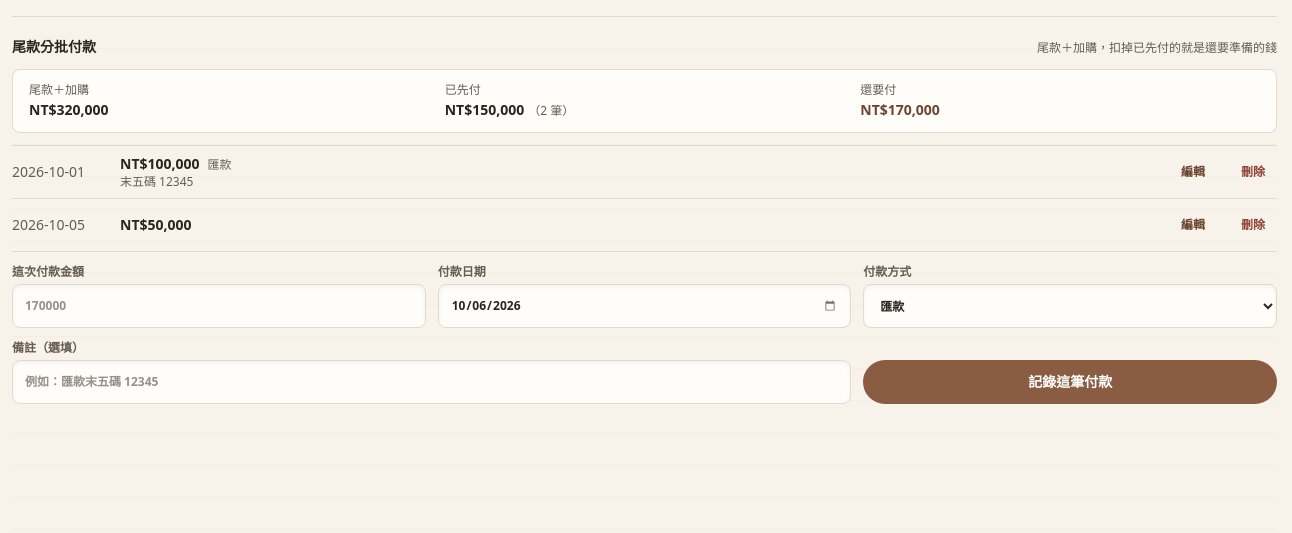
Test: BudgetPayments › 取消編輯會回到原本的付款列
Click the button with aria-label "編輯 2026-10-05 的付款紀錄": click(1193, 225) [1169,207,1217,243]
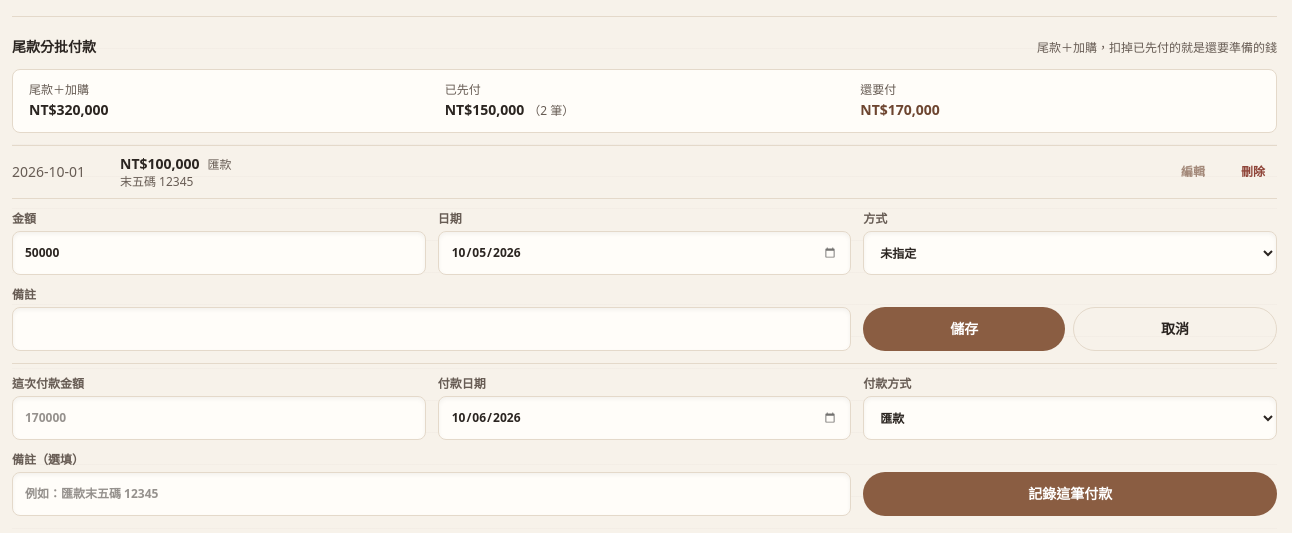
Click the button "取消": click(1175, 329) [1073,307,1277,351]
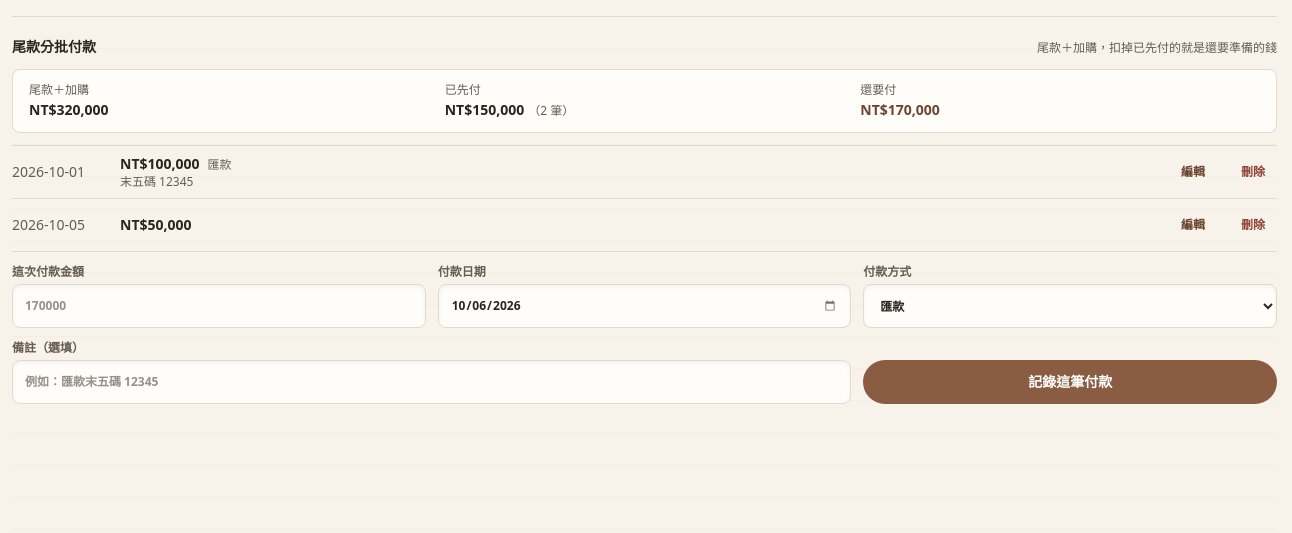
Check: the form "編輯付款：2026-10-05" is gone
